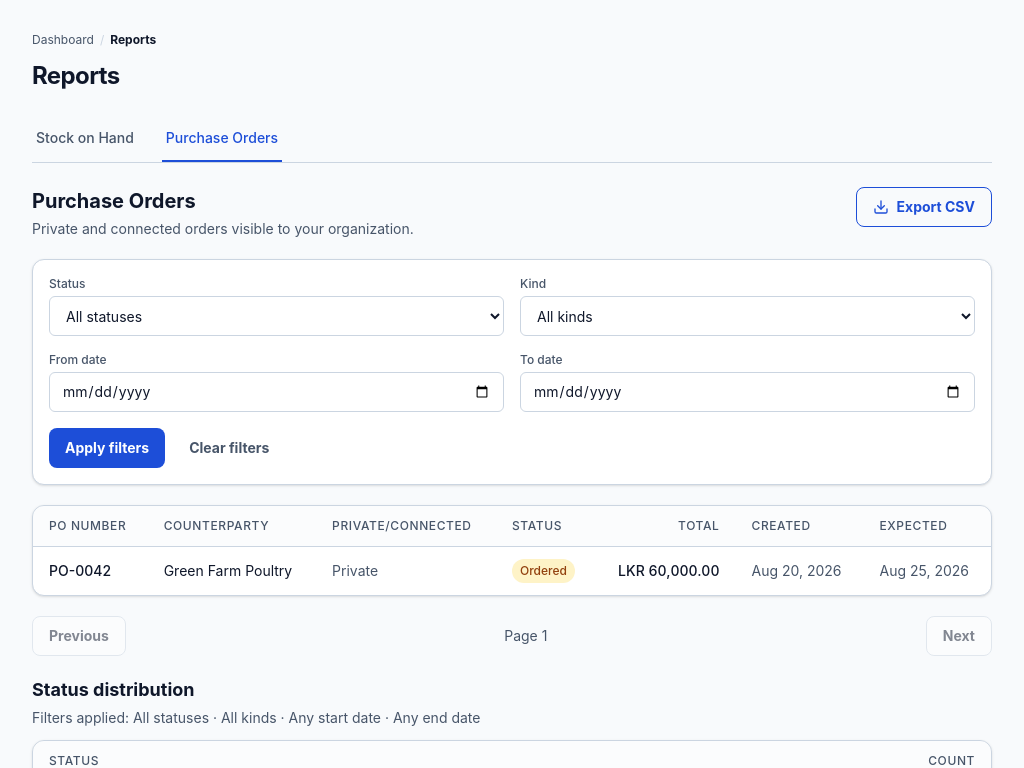
Test: PurchaseOrderReport › applies the same governed family and kind filter to table and distribution
Select "Active" in the dropdown labelled "Status": [276, 316] box x1=49 y1=296 x2=504 y2=336
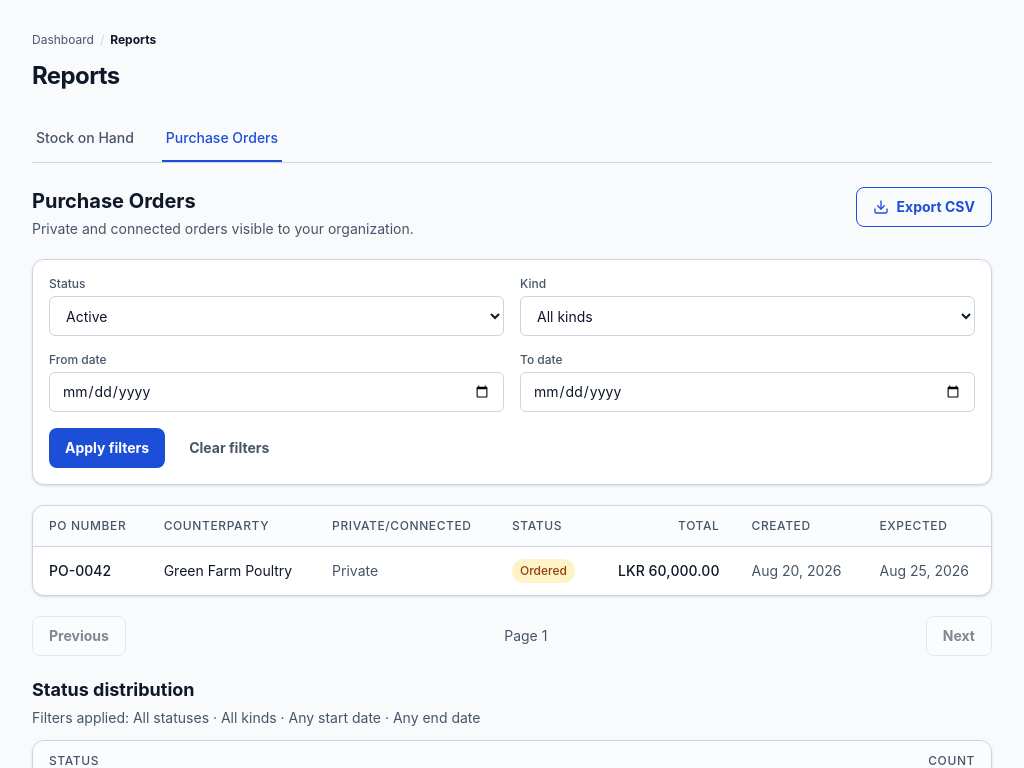
Select "Connected" in the dropdown labelled "Kind": [748, 316] box x1=520 y1=296 x2=975 y2=336
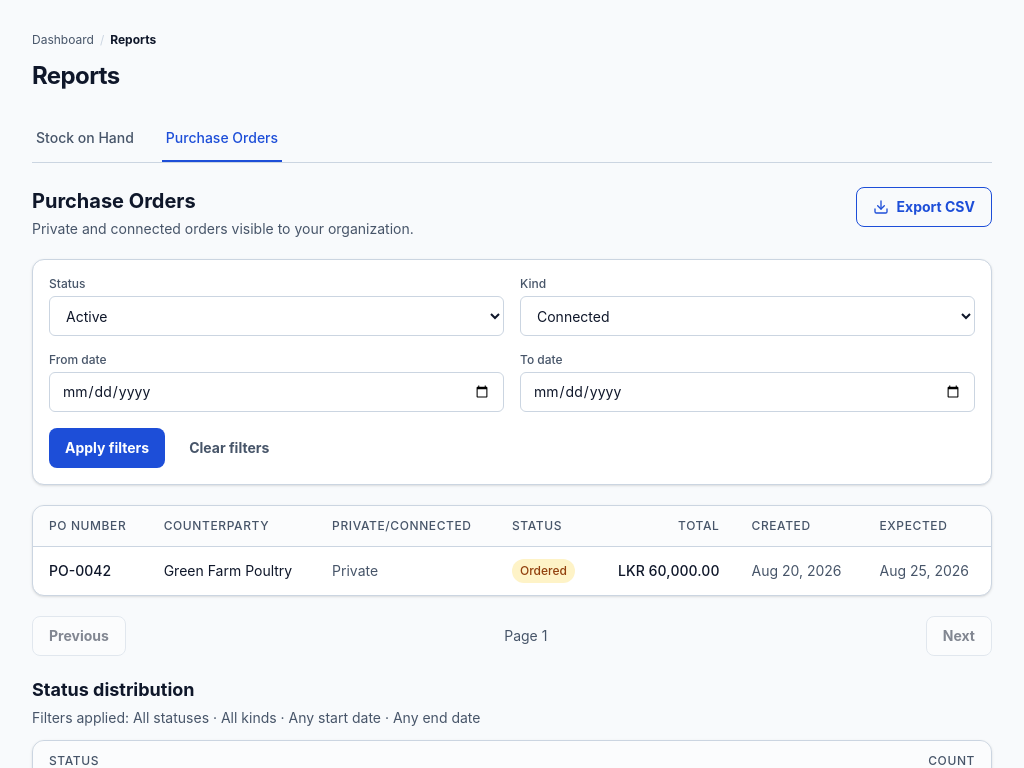
Click the button "Apply filters": [107, 448] box x1=49 y1=428 x2=165 y2=468
(page scrolled)
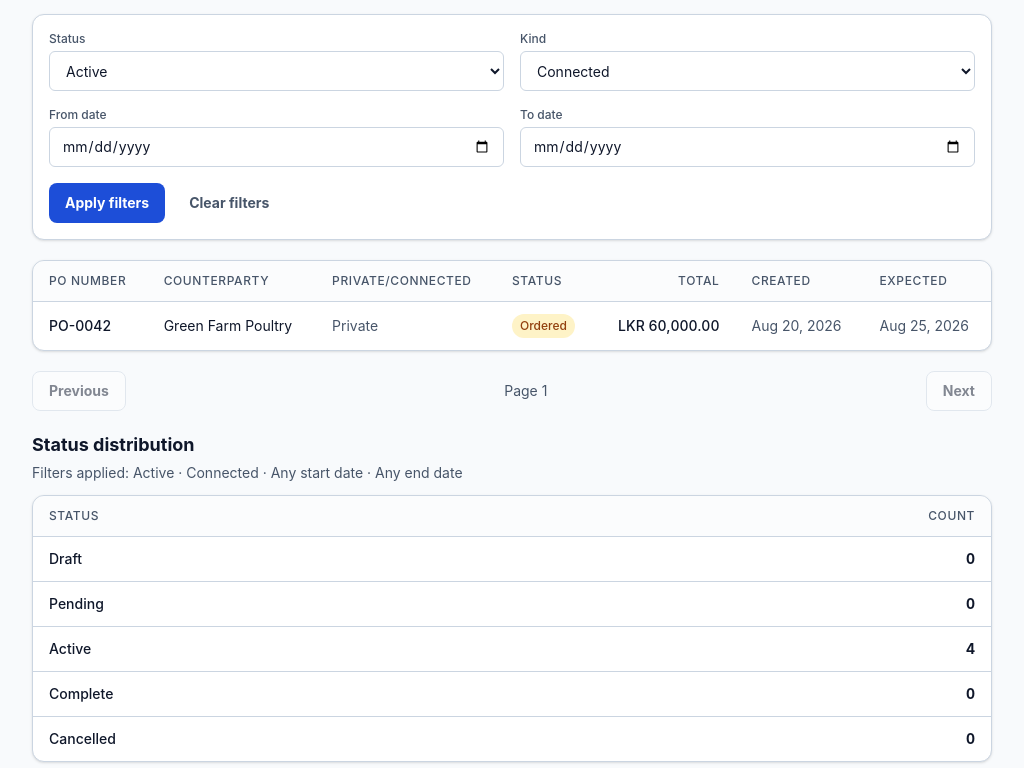
Check: the text "Filters applied: Active · Connected" is shown, box x1=32 y1=464 x2=463 y2=481
